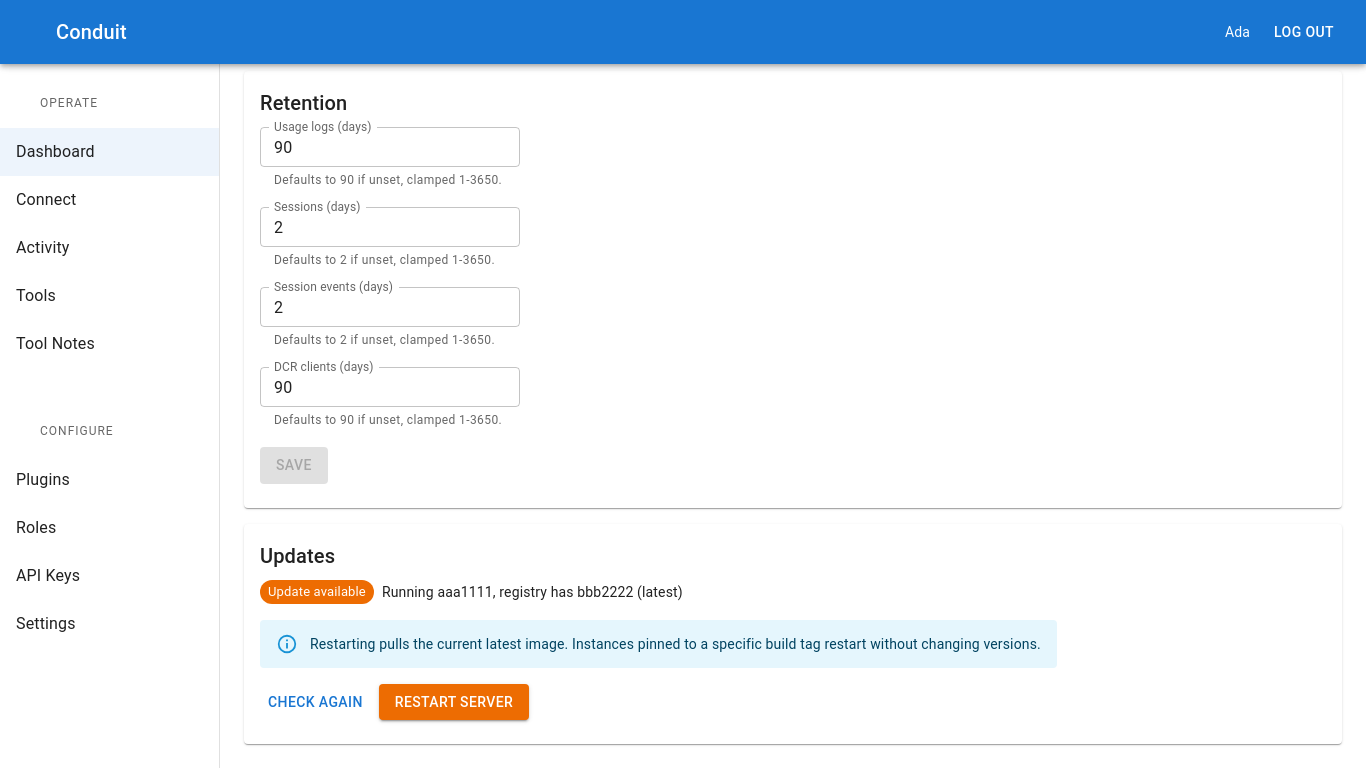
it: settings page › update card shows availability and restarts only after confirm
The width and height of the screenshot is (1366, 768).
(page scrolled)
expect the text "Update available" is shown: met, box [260,582,374,601]
expect the text "Running aaa1111, registry has bbb2222 (latest)" is shown: met, box [382,582,683,602]
Click the button "Restart server" at x=454, y=702, box [379,684,529,720]
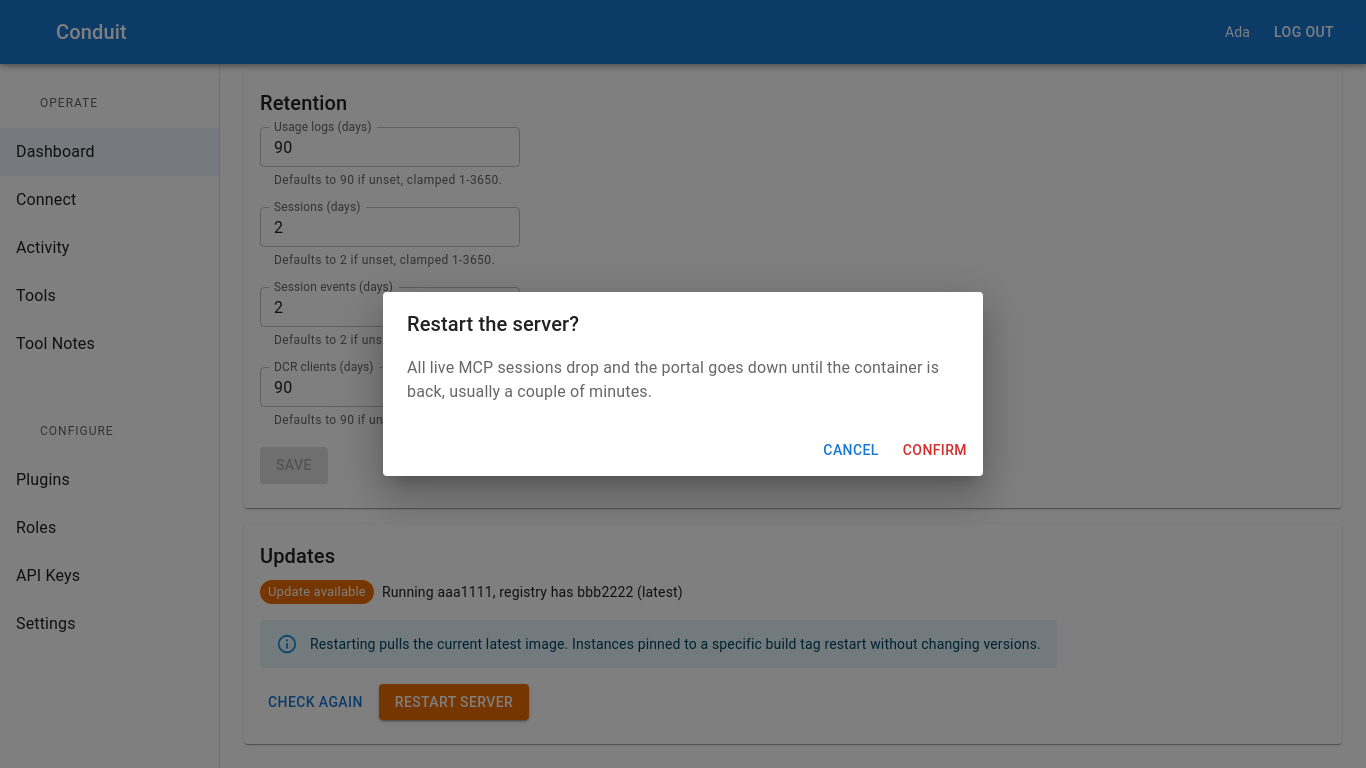
Click the button "Confirm" at x=935, y=450, box [895,432,975,468]
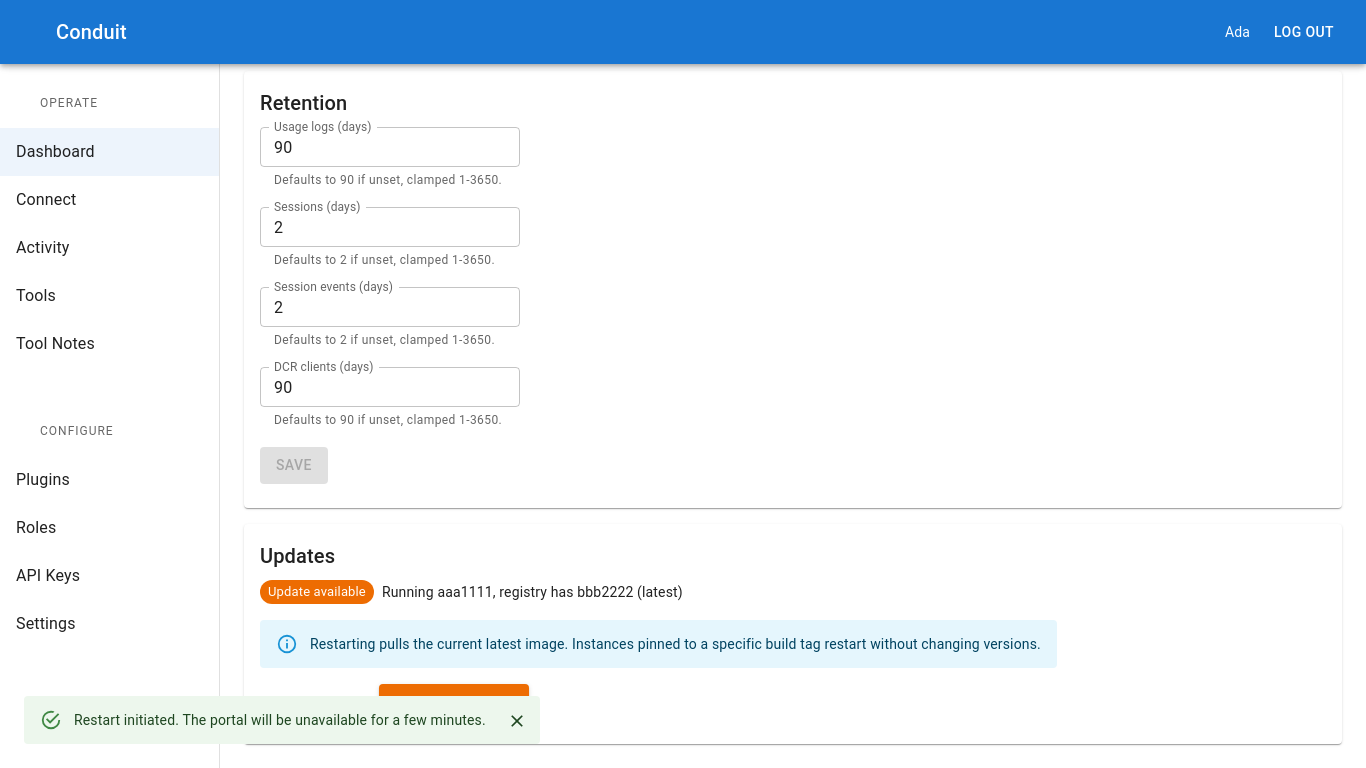
expect the text "Restart initiated" is shown: met, box [74,712,486,728]
